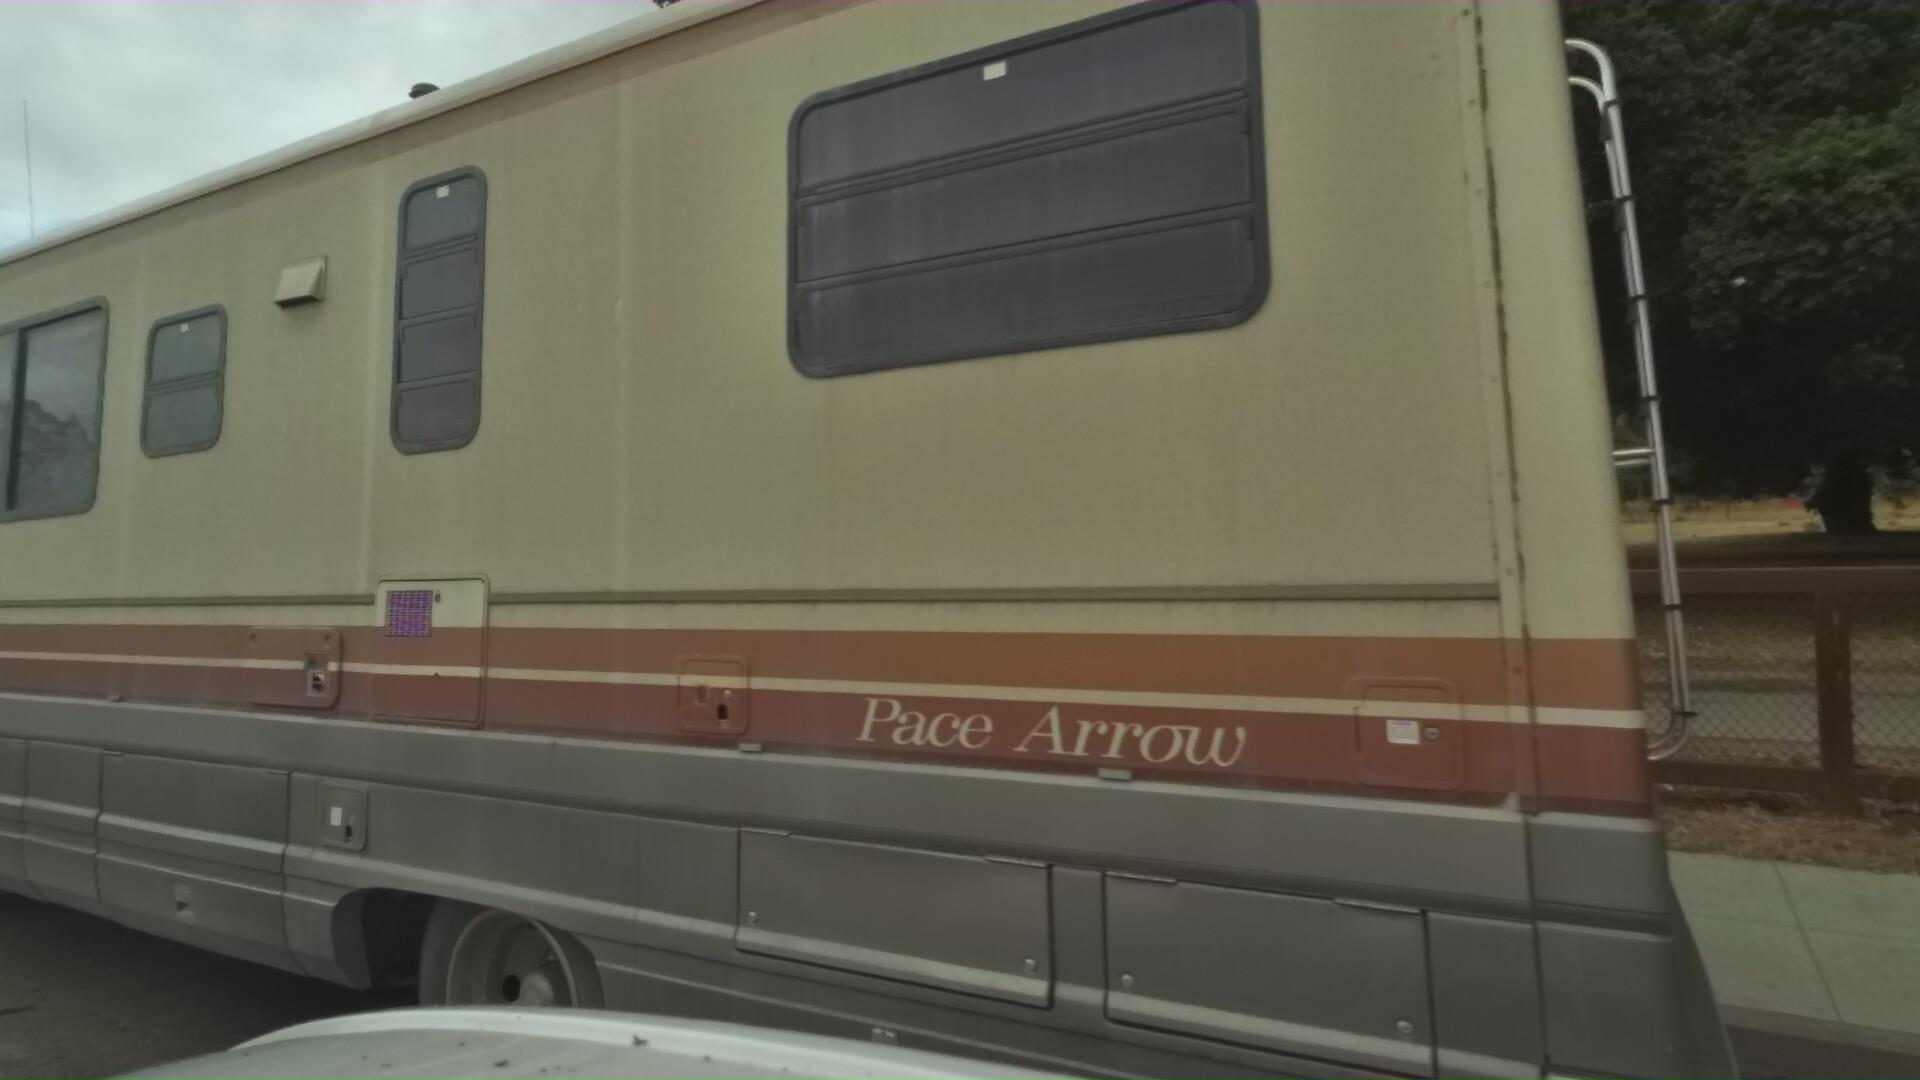car: (0, 578, 196, 866)
other_vehicle: (0, 0, 1920, 1080)
